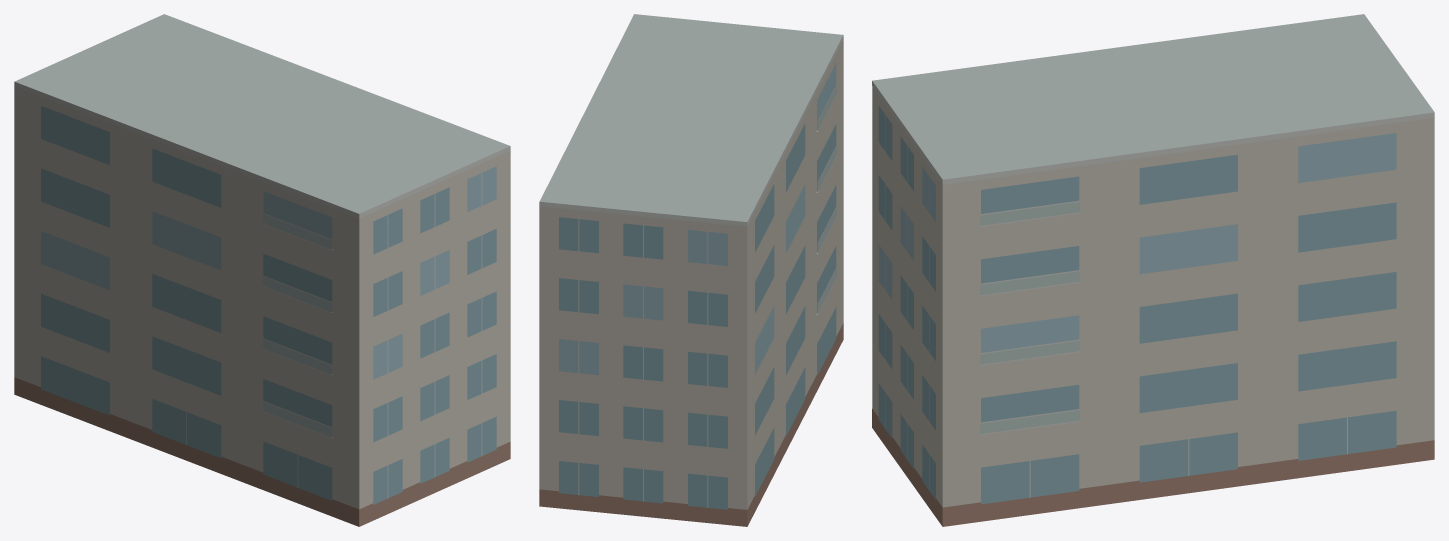
Rendered from survey-upis-32751579.glb.
The picture shows the model from 3 angles, left to right: view 1: azimuth 30°, elevation 25°; view 2: azimuth 150°, elevation 25°; view 3: azimuth 270°, elevation 25°; orthographic projection. The views are drawn at different scales.
Parts seen in each view (by area): view 1: survey-upis-32751579.tmp; view 2: survey-upis-32751579.tmp; view 3: survey-upis-32751579.tmp.
Part boxes in pixels (x1,y1,x2,y2): survey-upis-32751579.tmp: (14,14,510,526); survey-upis-32751579.tmp: (539,14,843,526); survey-upis-32751579.tmp: (872,14,1434,526).
Bounding box in the file's own units: 16.49 × 16.1 × 23.66.
